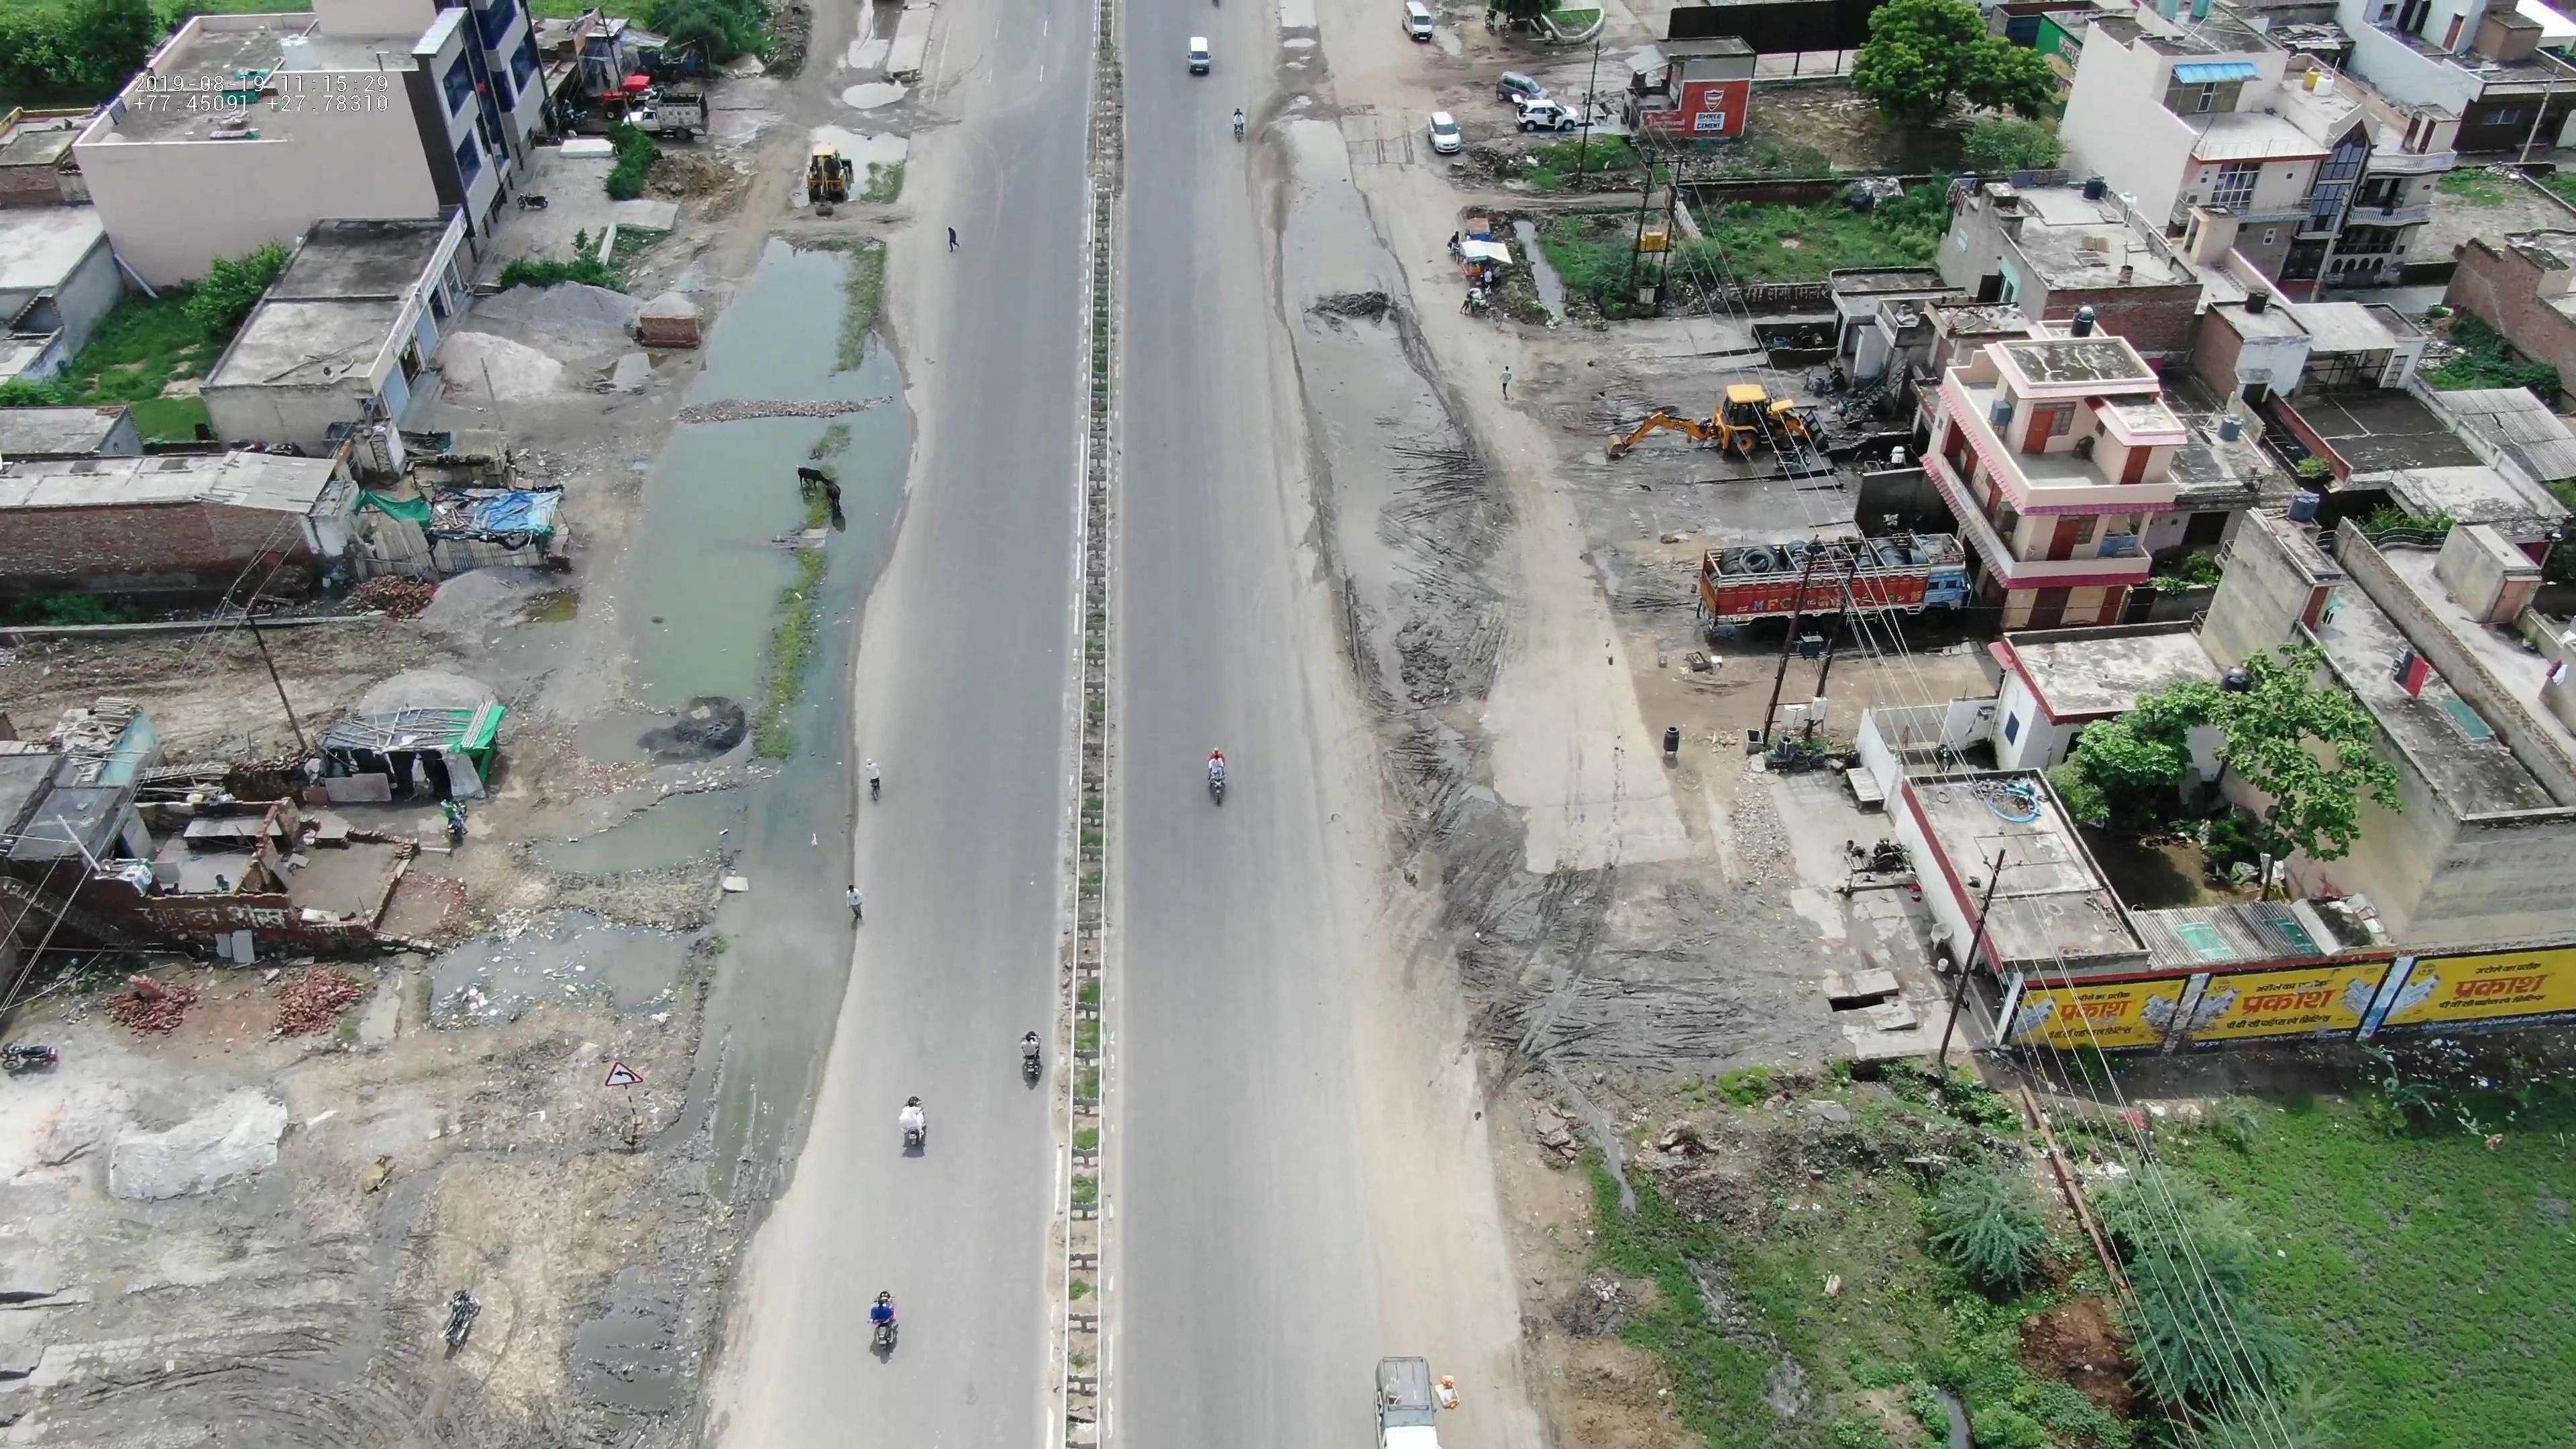Muddy_road: (1352, 559, 1460, 950)
Waterlogging: (736, 311, 916, 1024), (1267, 186, 1398, 538)
